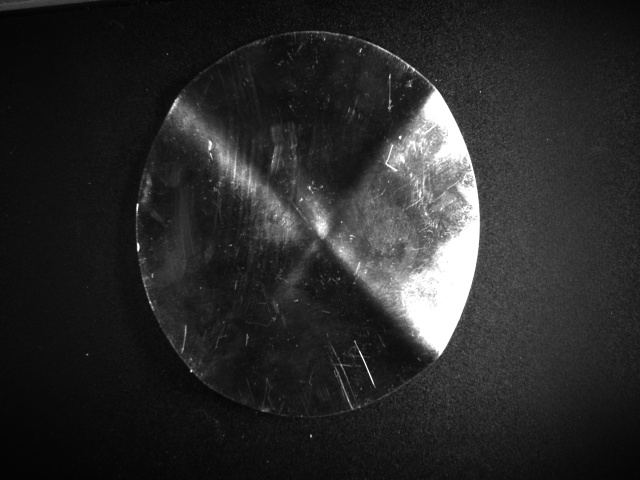zhe_zhou: (165, 115, 454, 342)
